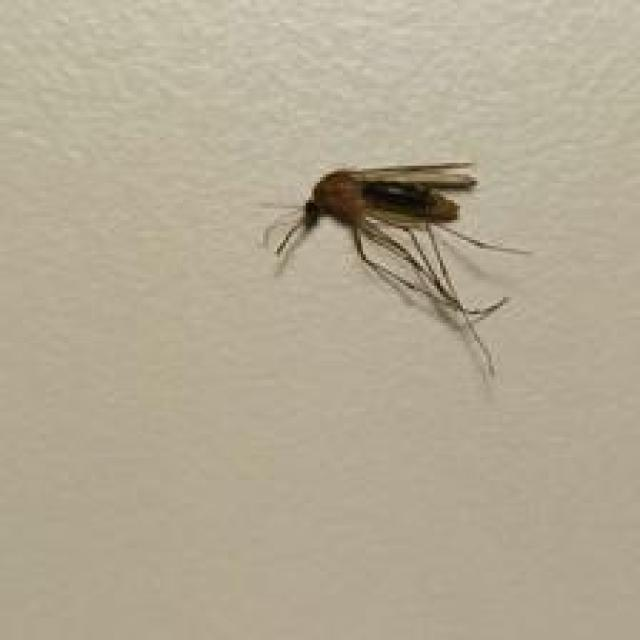Culex: (261, 157, 533, 386)
